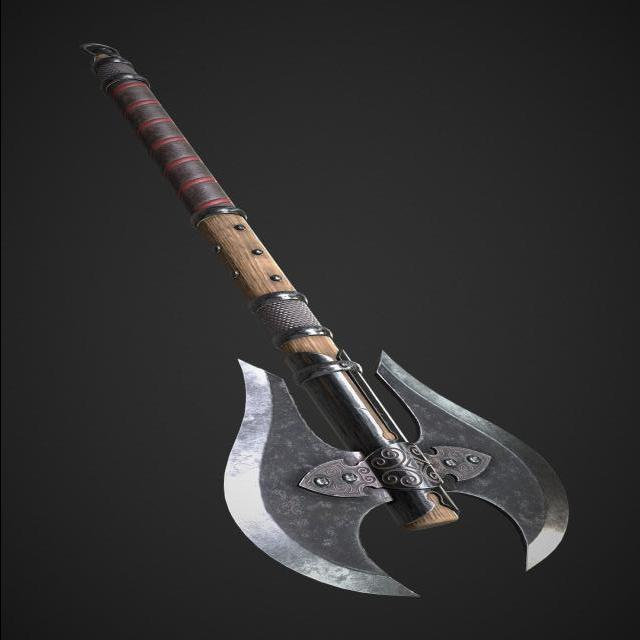axe: (84, 44, 573, 601)
